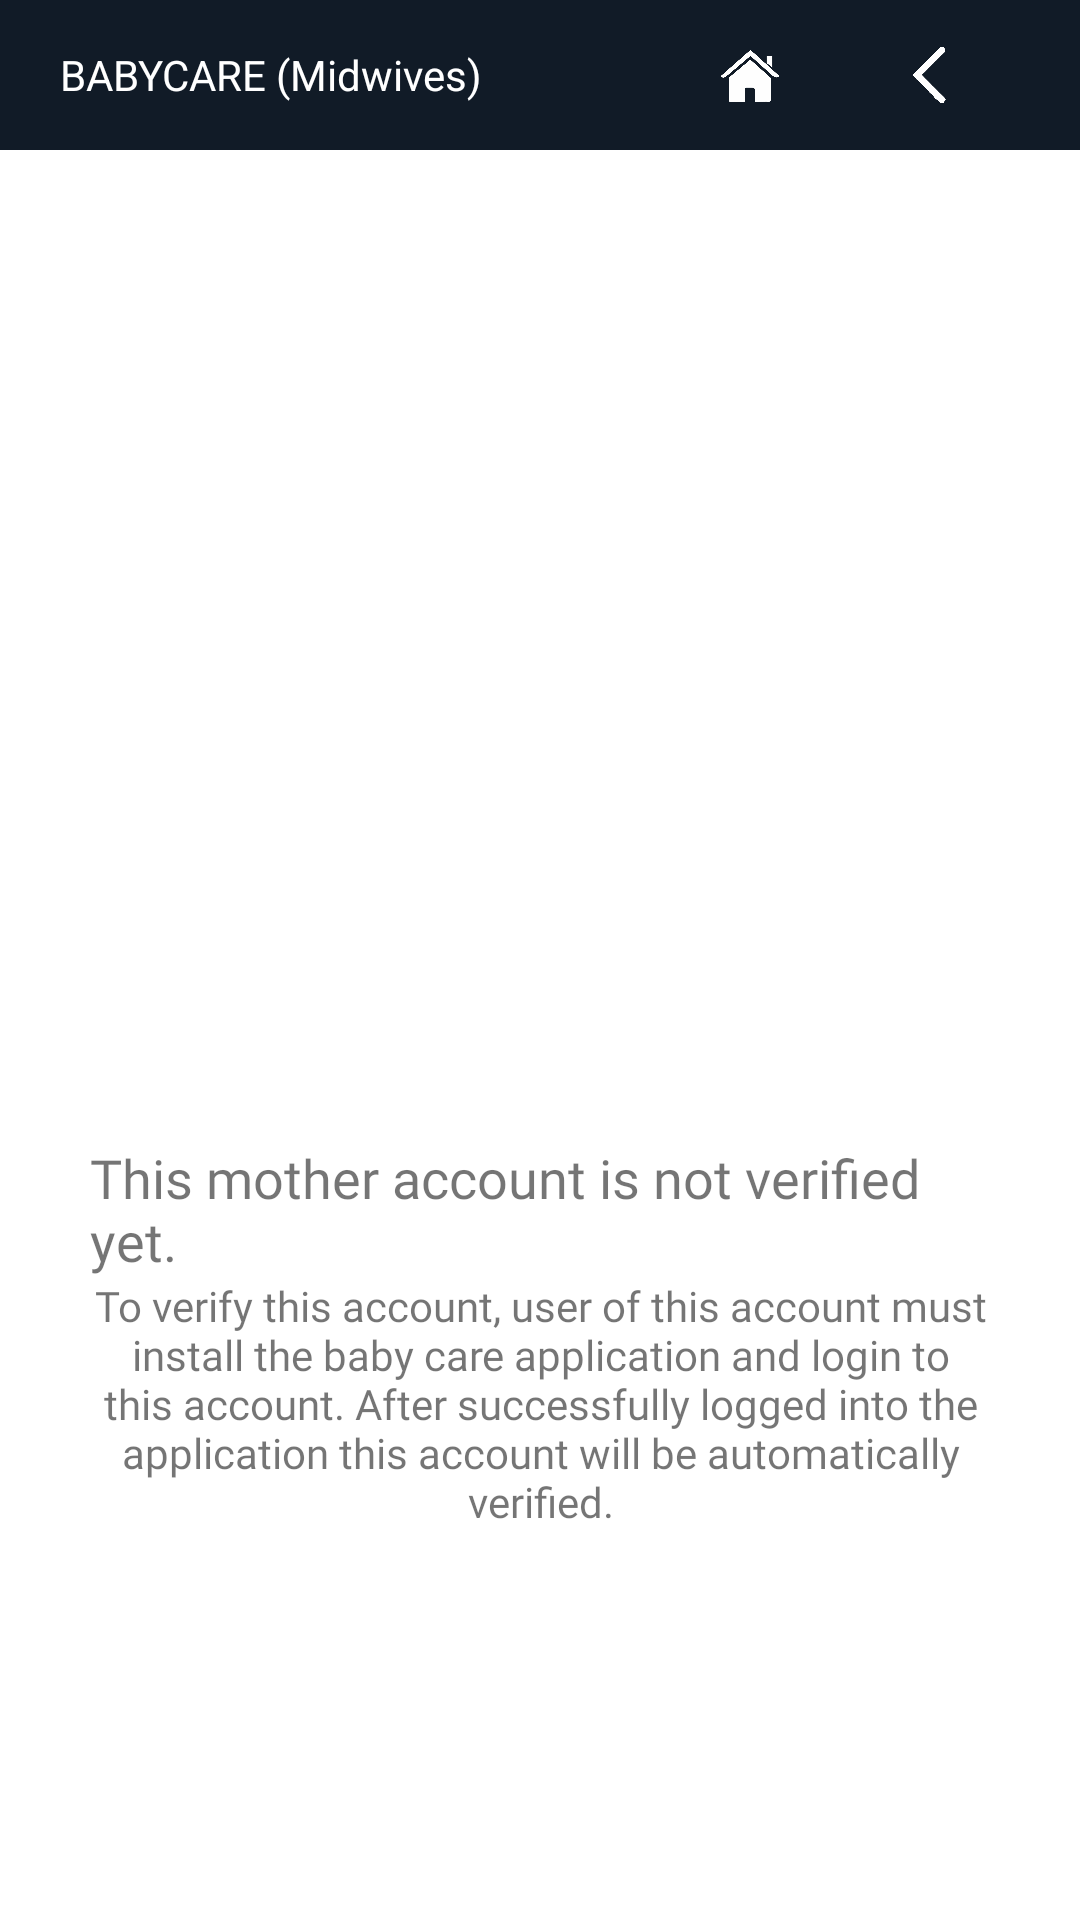

Named icons in this screenshot (1080x1920) and their centers, (x,y):
back: (929,75)
home: (750,76)
